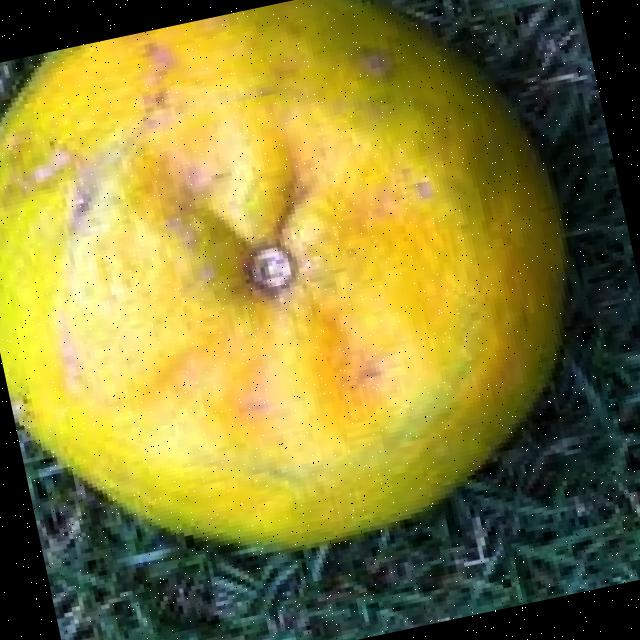Bad_Orange-0-1 day: (0, 0, 572, 552)
